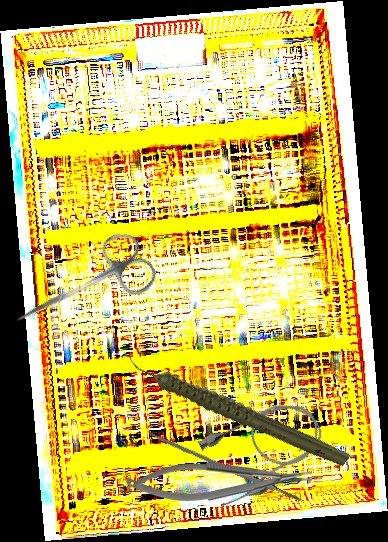Cannula: (190, 389, 335, 513)
Handpiece: (124, 308, 353, 509)
Iris Scissors: (3, 225, 162, 352)
Needle Holder: (127, 462, 312, 502)
Scalpel Handle: (147, 430, 304, 505)
